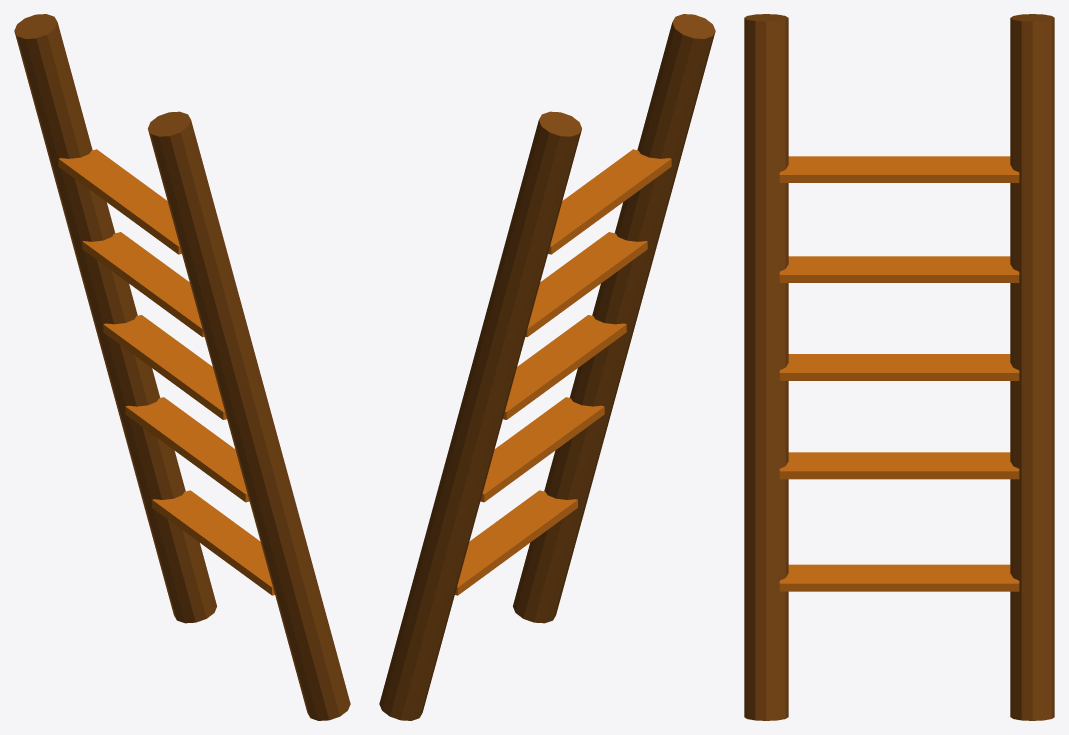
File: ladder.glb
3 views of the same model, side by side, from view 1: azimuth 30°, elevation 25°; view 2: azimuth 150°, elevation 25°; view 3: azimuth 270°, elevation 25° (orthographic).
Parts seen in each view (by area): view 1: Cube.004; view 2: Cube.004; view 3: Cube.004.
Part boxes in pixels (<box>): Cube.004: <box>14,14,350,720</box>; Cube.004: <box>379,14,715,720</box>; Cube.004: <box>744,14,1054,720</box>.
Size of the model in its own units: 2.55 by 7.86 by 3.5.
1 material, 1 textured.
